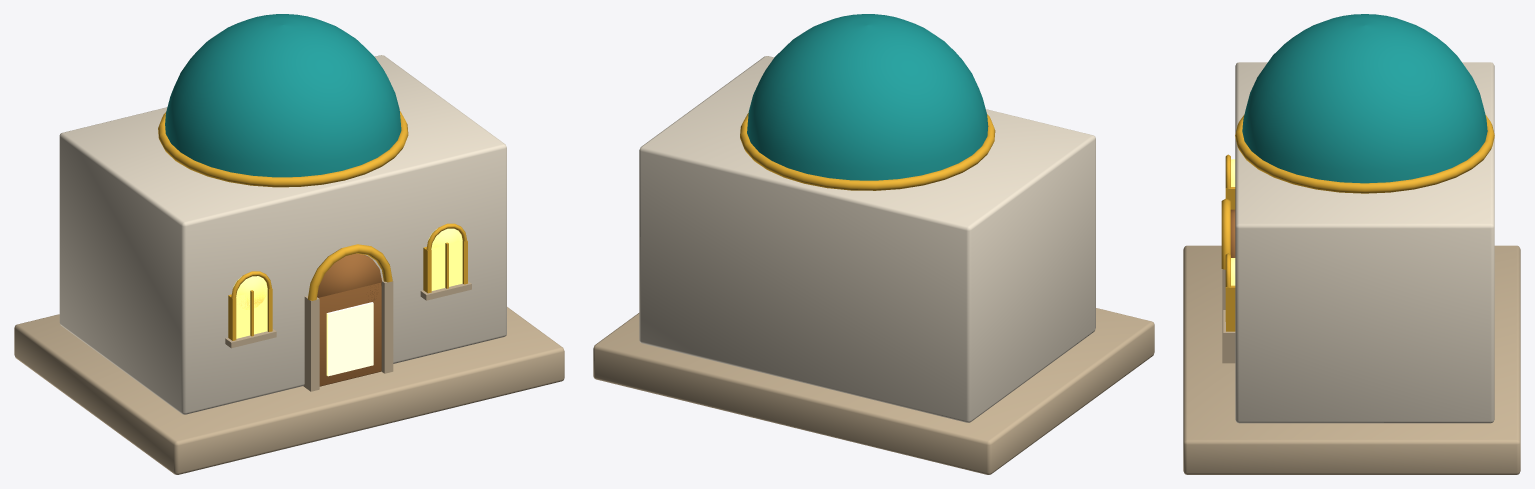
File: palat_1.glb
3 renders of one model, left to right at view 1: azimuth 30°, elevation 25°; view 2: azimuth 150°, elevation 25°; view 3: azimuth 270°, elevation 25°, orthographic. The views are drawn at different scales.
Visible parts, largest first — view 1: Palat.001; view 2: Palat.001; view 3: Palat.001.
Part boxes in pixels (x1,y1,x2,y2): Palat.001: (14, 14, 564, 474); Palat.001: (593, 14, 1154, 474); Palat.001: (1183, 14, 1520, 474).
Size of the model in its own units: 3.6 by 3 by 2.6.
